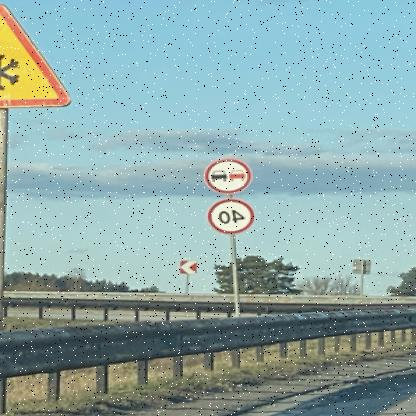speedlimit: (209, 198, 256, 233)
